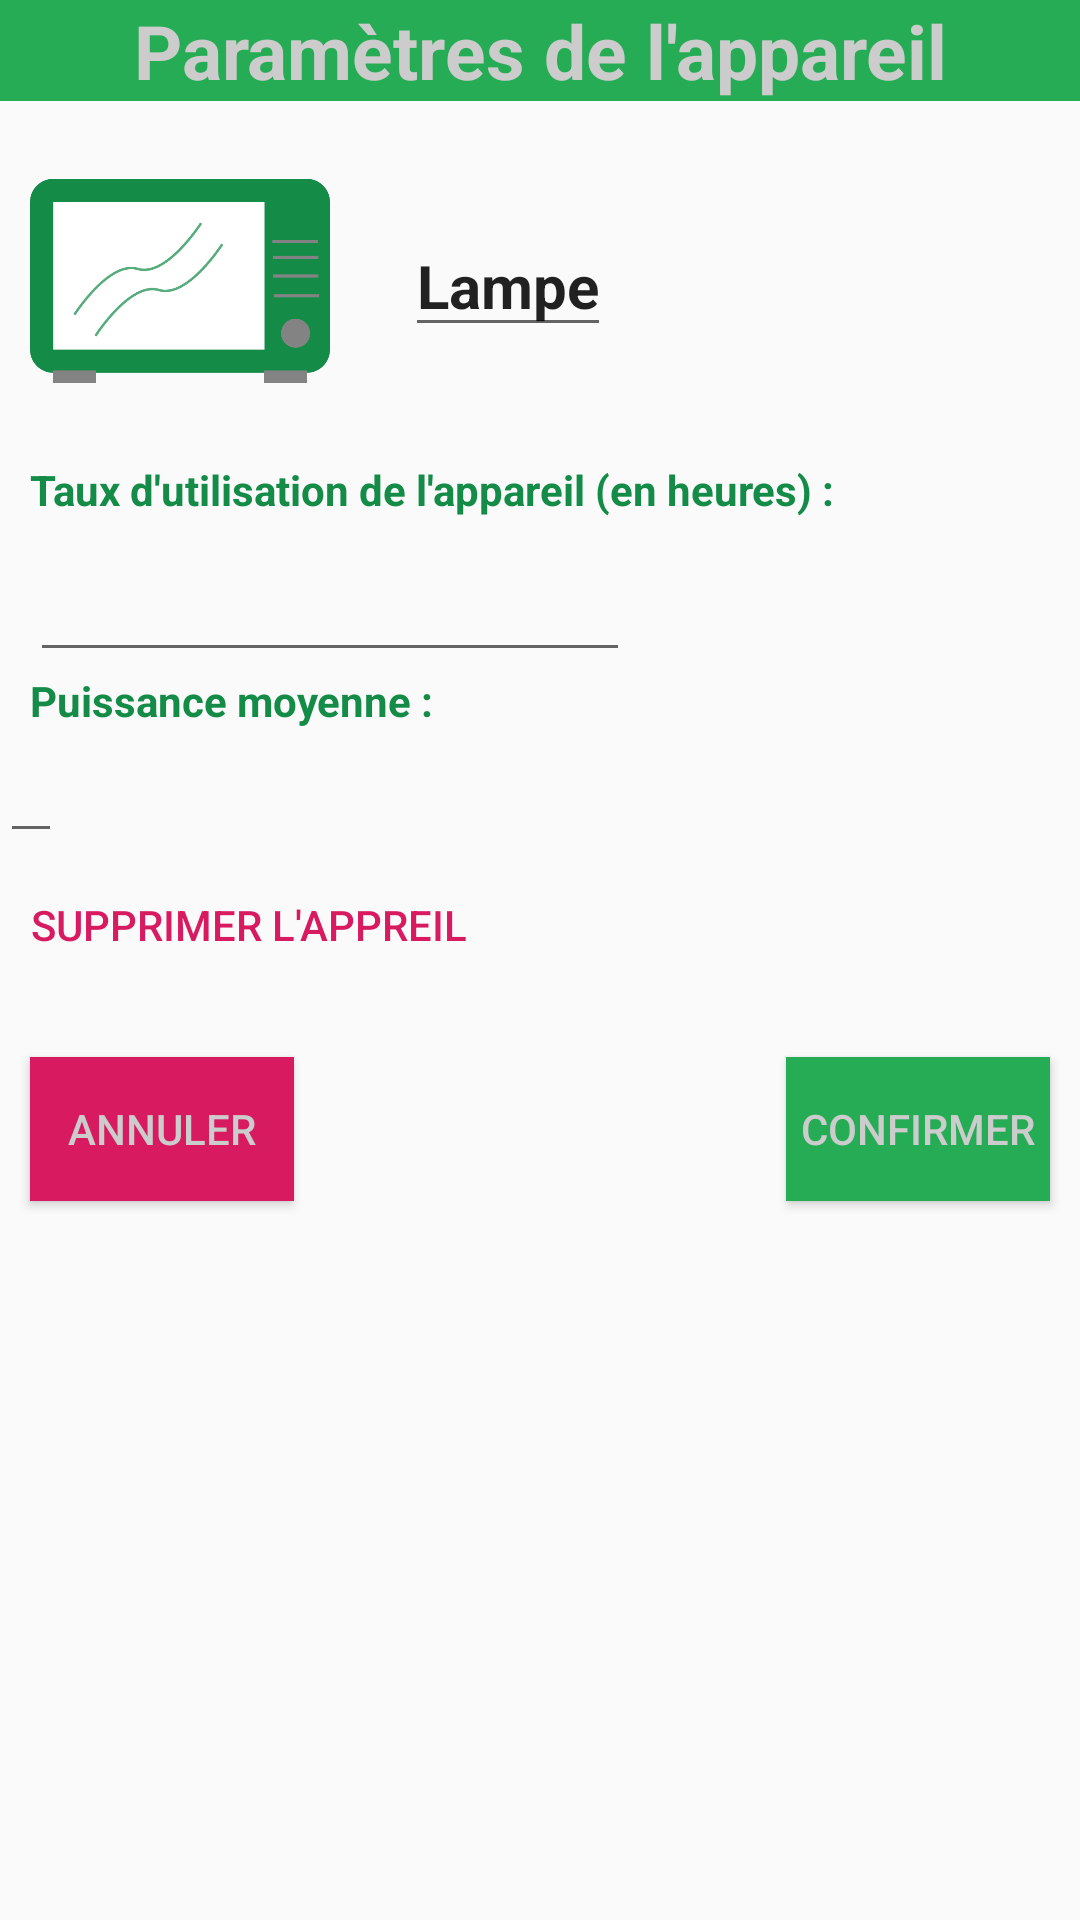

Named icons in this screenshot (1080px×1920px) and their bounding boxes, (x1, y1, x2, y2):
microwave: (30, 179, 330, 383)
